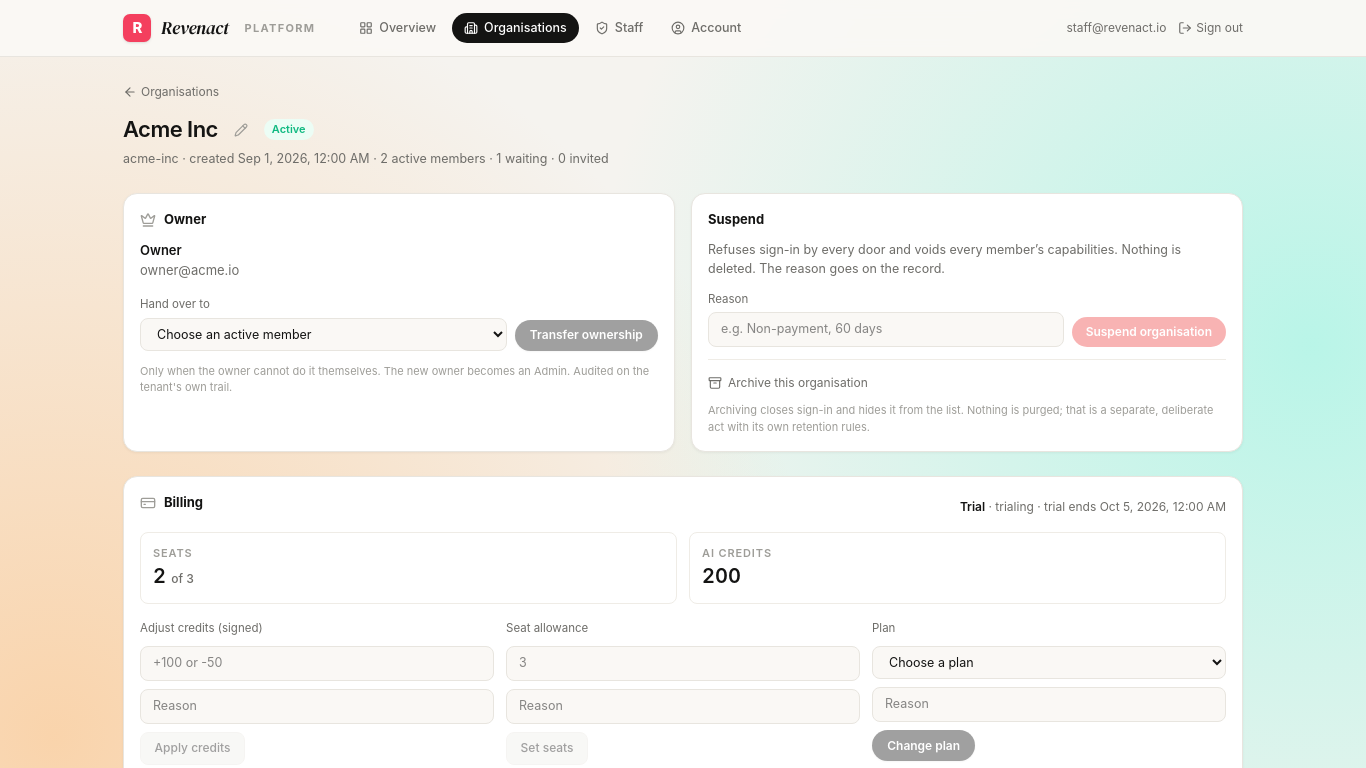
it: Platform portal › hands ownership to another active member
Select "Carl · carl@acme.io" in the dropdown labelled "Hand over to": (323, 334) [140,318,507,351]
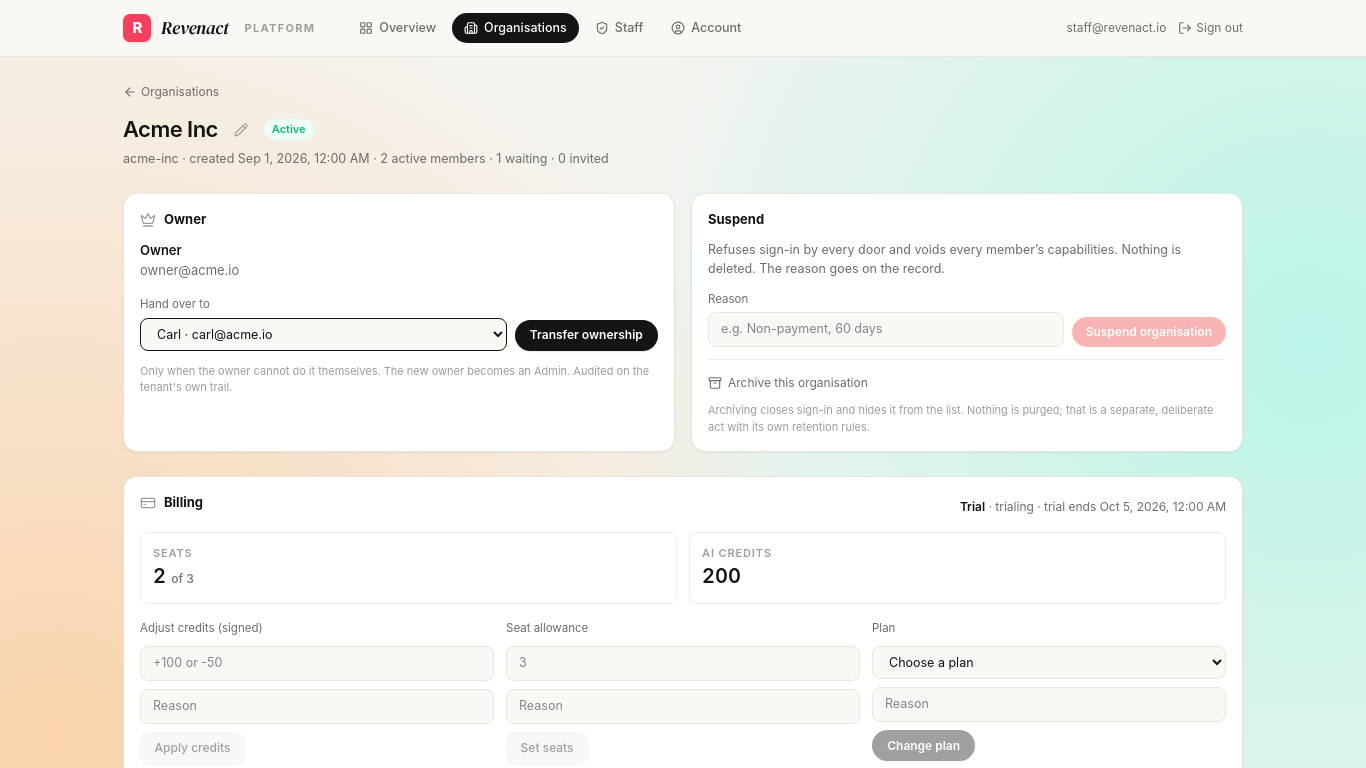
Click the button "Transfer ownership": (586, 336) [515,320,658,351]
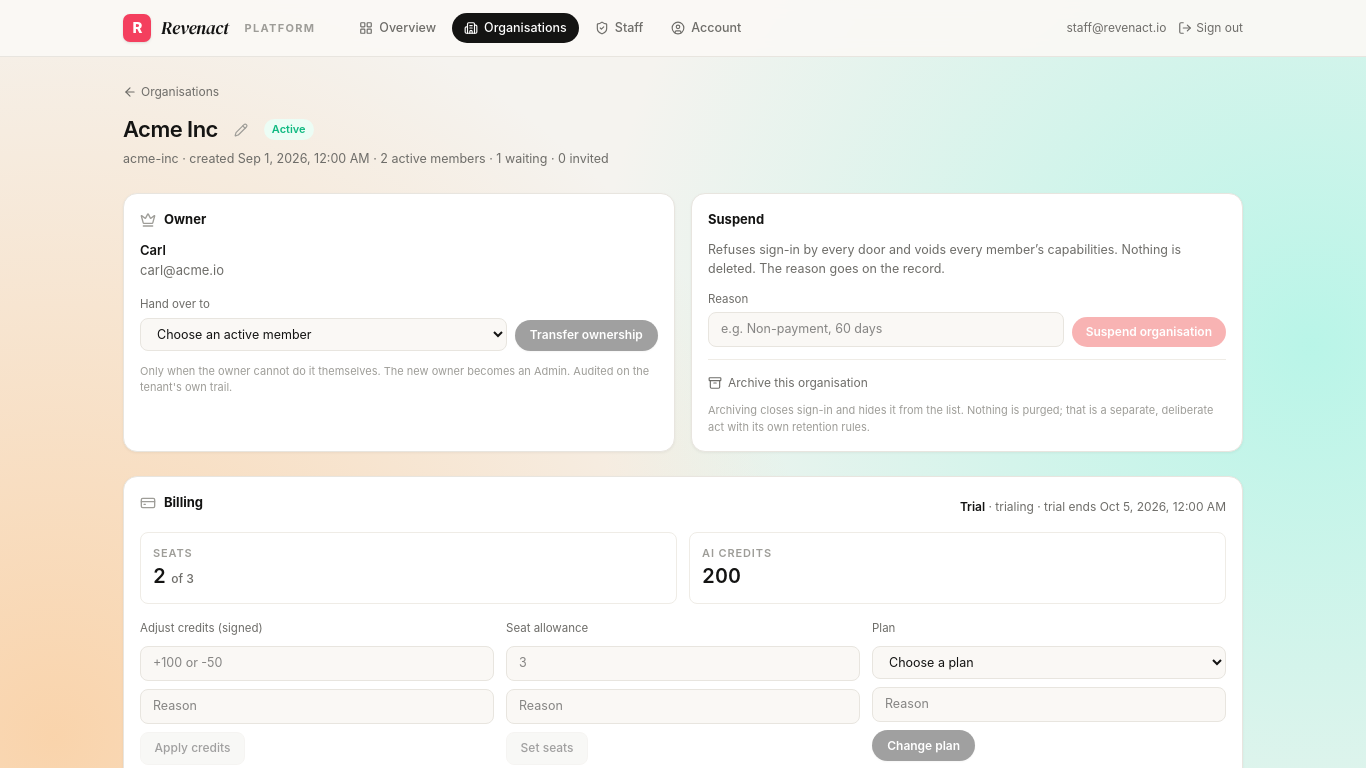
Result: the text "carl@acme.io" is shown at [140,262,224,278]
